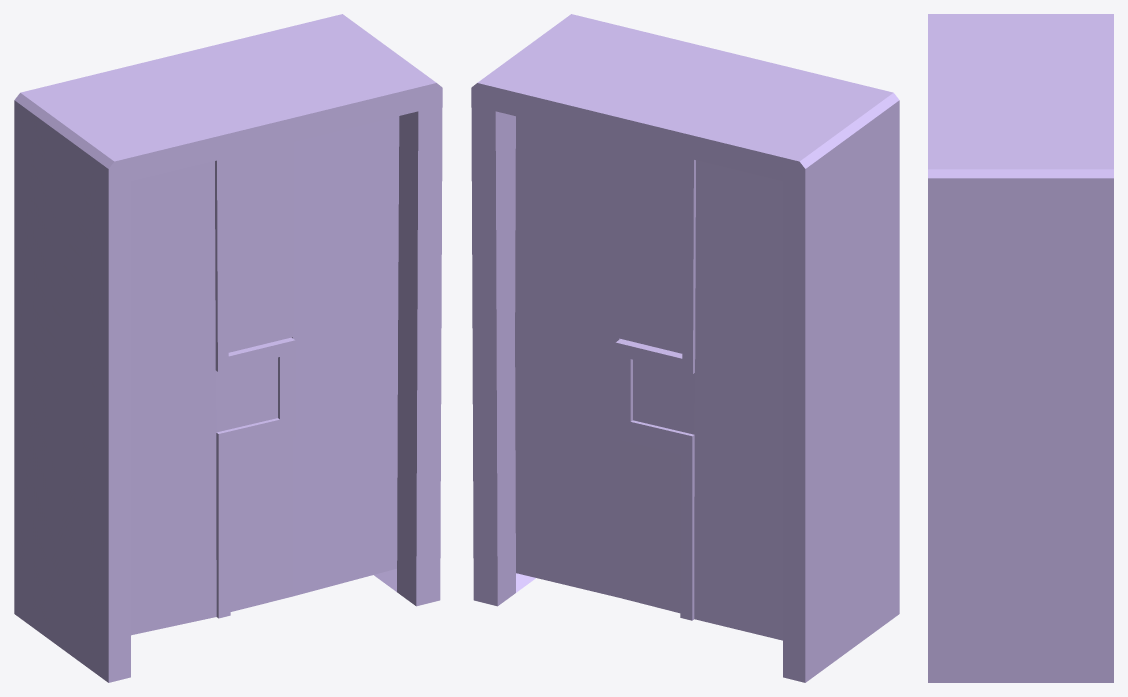
File: Porta_Scifi.fbx
3 views of the same model, side by side, from view 1: azimuth 30°, elevation 25°; view 2: azimuth 150°, elevation 25°; view 3: azimuth 270°, elevation 25° (orthographic).
Visible parts, largest first — view 1: Canto_Porta_SCIFI, Porta_Scifi1.002, Porta_Scifi1; view 2: Canto_Porta_SCIFI, Porta_Scifi1.002, Porta_Scifi1; view 3: Canto_Porta_SCIFI.
Part boxes in pixels (x1,y1,x2,y2): Canto_Porta_SCIFI: (14,14,442,682); Porta_Scifi1.002: (228,116,399,611); Porta_Scifi1: (131,157,295,635); Canto_Porta_SCIFI: (471,14,899,682); Porta_Scifi1.002: (515,116,682,613); Porta_Scifi1: (615,157,782,640); Canto_Porta_SCIFI: (928,14,1113,682).
Bounding box in the file's own units: 163 × 243 × 79.62.
